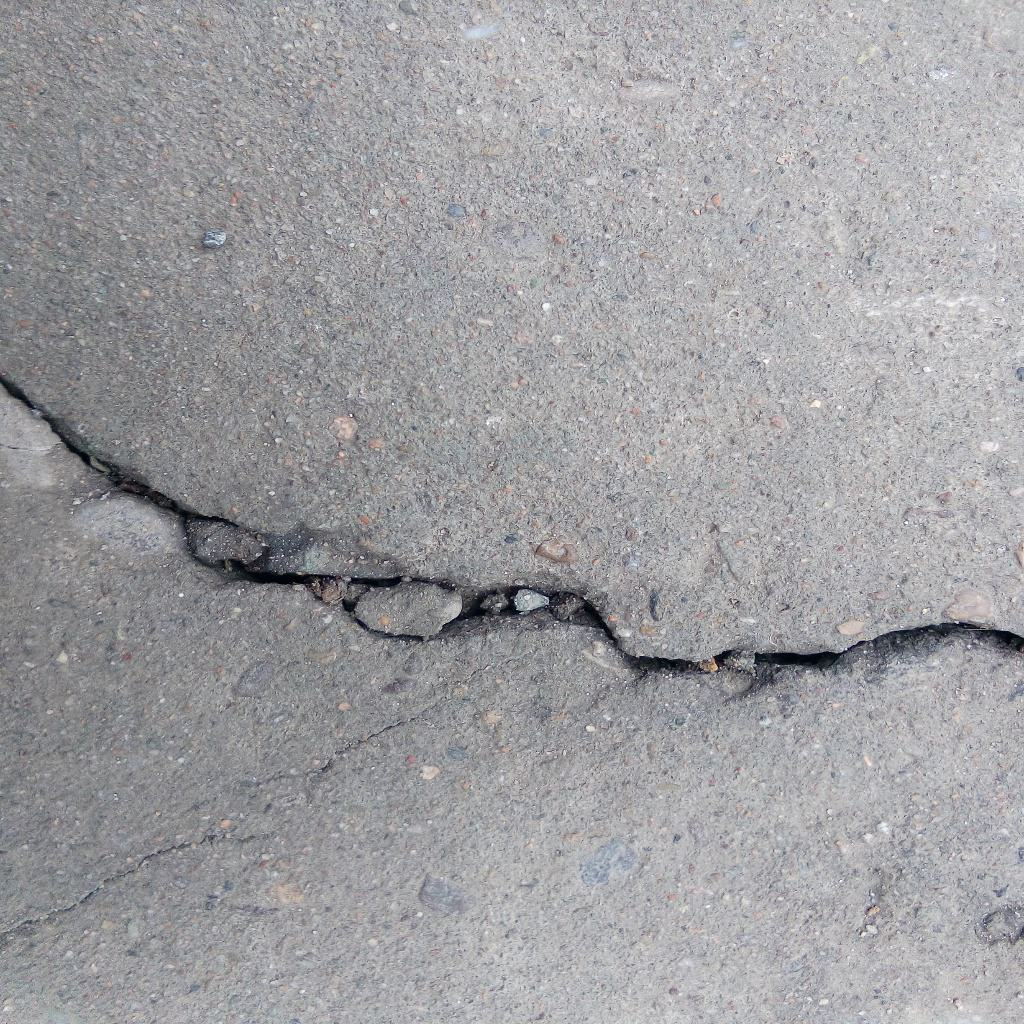Crack: (1, 373, 1024, 681), (1, 835, 219, 936), (315, 702, 444, 776)
